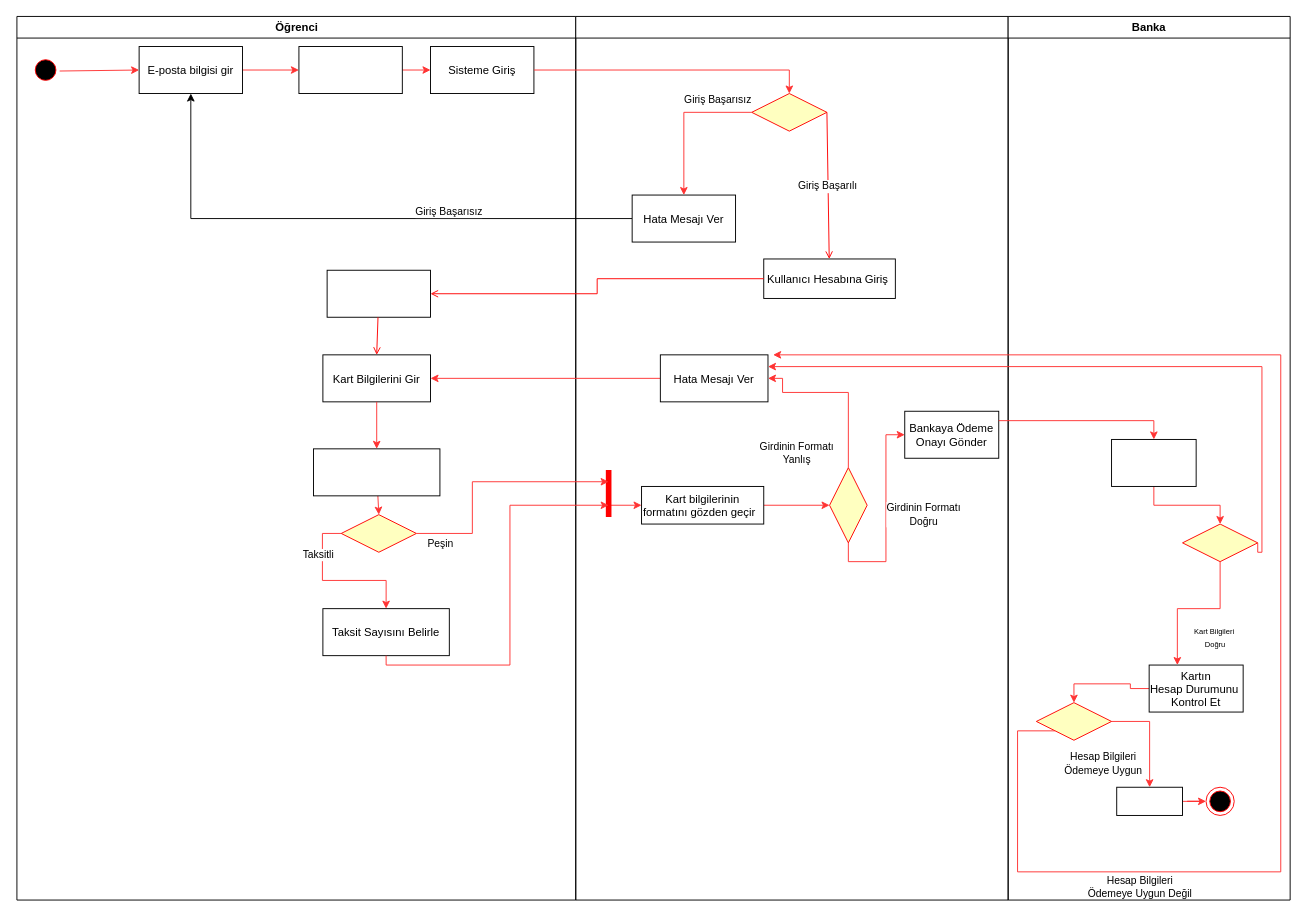
Image size: 1307x917. Some labels were removed from this diagram. The shapes that lost their labels are listed below. From the top down, each one's box as (x1, y1, x2, y2) in pixels, then its label:
(298, 46, 402, 94): Şifre bilgisi gir
(326, 269, 431, 317): "Kurs Ücretini Öde" İşlemini Seç
(313, 448, 440, 496): Ödeme Seçeneklerini Belirle
(575, 16, 1008, 900): Sistem
(1111, 439, 1196, 486): Kart Bilgilerinin Doğruluğunu Kontrol Et
(1116, 786, 1183, 815): Ödemeyi Gerçekleştir
